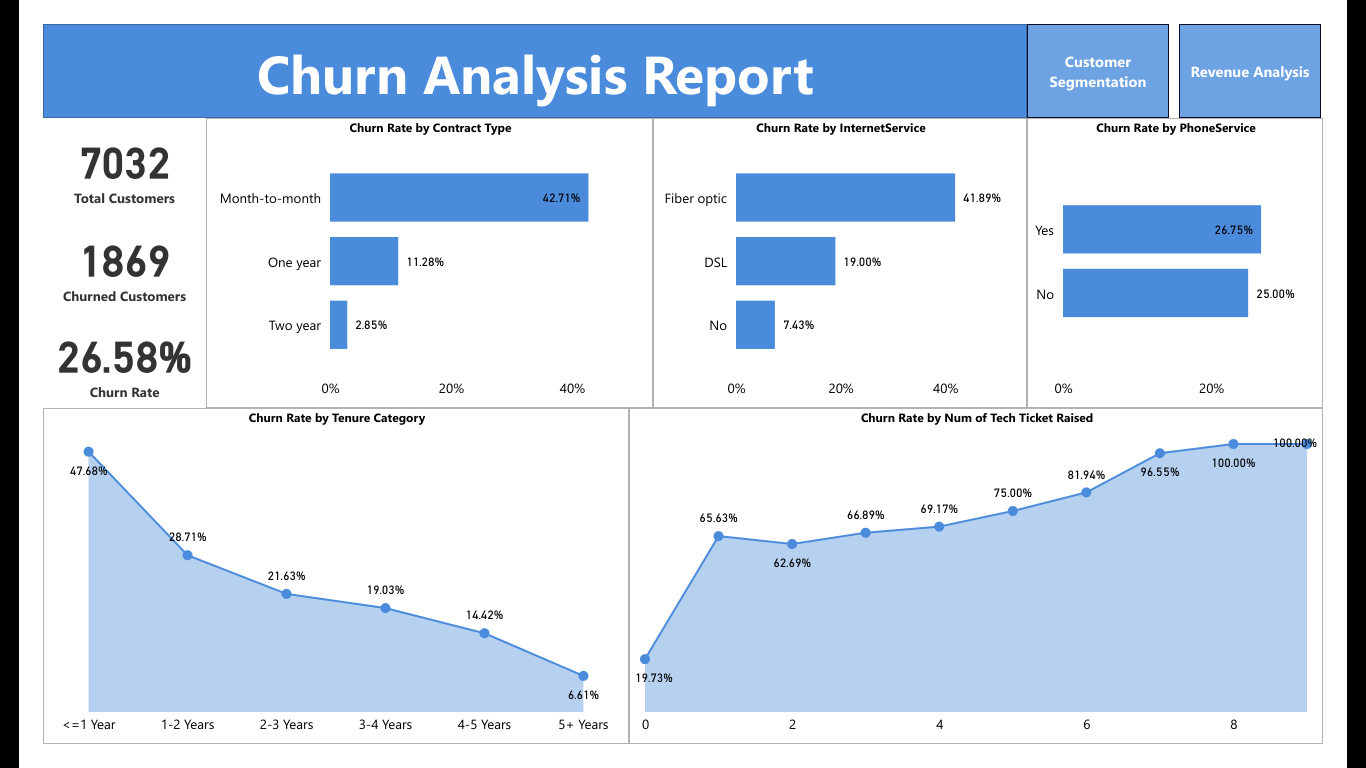

Layout of this report page (visuals, bound fields, positions):
{"tool":"powerbi","page":{"name":"Churn Overview","canvas":[1280,720],"ordinal":0},"visuals":[{"type":"areaChart","fields":{"Category":["ChurnDataTable.Tenure Category"],"Y":["MeasuresTable.Churn Rate by Demographics"]},"box":[0,383.5,586.3,336.5],"z":0},{"type":"clusteredBarChart","fields":{"Category":["ChurnDataTable.Contract"],"Y":["MeasuresTable.Churn Rate by Demographics"]},"box":[163.1,94,446.7,289.5],"z":1000},{"type":"card","fields":{"Values":["MeasuresTable.Churn Rate"]},"box":[0,290.9,163.1,92.6],"z":2000},{"type":"card","fields":{"Values":["MeasuresTable.Churned Customers"]},"box":[0,192.5,163.1,98.4],"z":3000},{"type":"shape","box":[0,0,984.5,94],"z":4000},{"type":"clusteredBarChart","fields":{"Category":["ChurnDataTable.InternetService"],"Y":["MeasuresTable.Churn Rate"]},"box":[610,94.3,374.4,289.3],"z":5000},{"type":"clusteredBarChart","fields":{"Category":["ChurnDataTable.PhoneService"],"Y":["MeasuresTable.Churn Rate"]},"box":[984.4,94.3,295.9,289.3],"z":6000},{"type":"card","fields":{"Values":["MeasuresTable.Total Customers"]},"box":[0,94,163,98],"z":7000},{"type":"areaChart","fields":{"Category":["ChurnDataTable.numTechTickets"],"Y":["MeasuresTable.Churn Rate"]},"box":[586.3,383.5,693.6,336.5],"z":8000},{"type":"pageNavigator","box":[984.5,0,295.3,94],"z":9000}]}

Visuals, with their boxes in screenshot pixels (x1, y1, x2, y2), scaled from the page's 1280x720 canvas onto the 1366x768 screenshot:
areaChart - ChurnDataTable.Tenure Category x MeasuresTable.Churn Rate by Demographics: bbox=(0, 409, 626, 767)
clusteredBarChart - ChurnDataTable.Contract x MeasuresTable.Churn Rate by Demographics: bbox=(174, 100, 651, 409)
card - MeasuresTable.Churn Rate: bbox=(0, 310, 174, 409)
card - MeasuresTable.Churned Customers: bbox=(0, 205, 174, 310)
shape: bbox=(0, 0, 1051, 100)
clusteredBarChart - ChurnDataTable.InternetService x MeasuresTable.Churn Rate: bbox=(651, 101, 1051, 409)
clusteredBarChart - ChurnDataTable.PhoneService x MeasuresTable.Churn Rate: bbox=(1051, 101, 1365, 409)
card - MeasuresTable.Total Customers: bbox=(0, 100, 174, 205)
areaChart - ChurnDataTable.numTechTickets x MeasuresTable.Churn Rate: bbox=(626, 409, 1365, 767)
pageNavigator: bbox=(1051, 0, 1365, 100)
